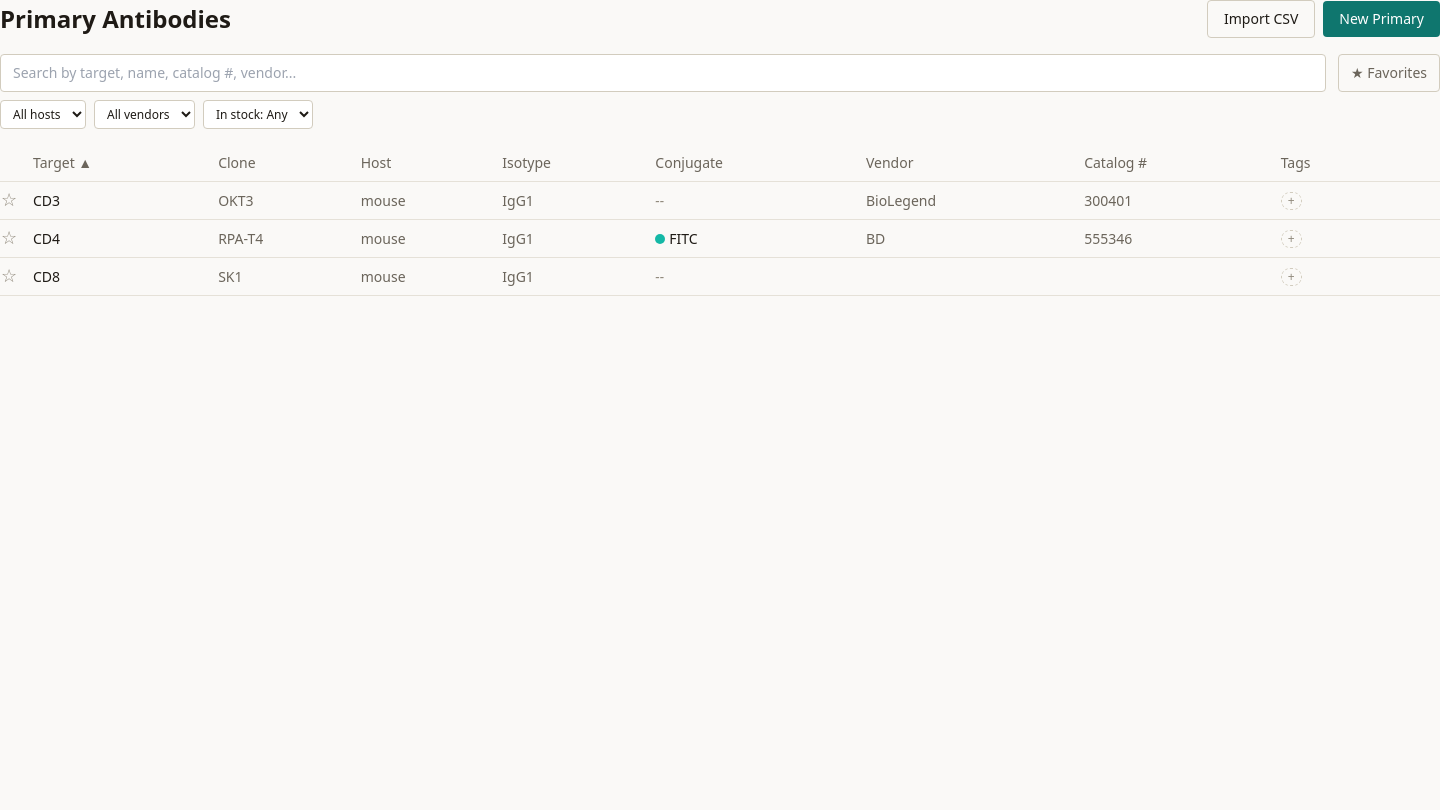
AntibodyTable › "New Primary" button opens modal
Click the button "New Primary".
click(1382, 19)  # box [1323, 1, 1439, 37]
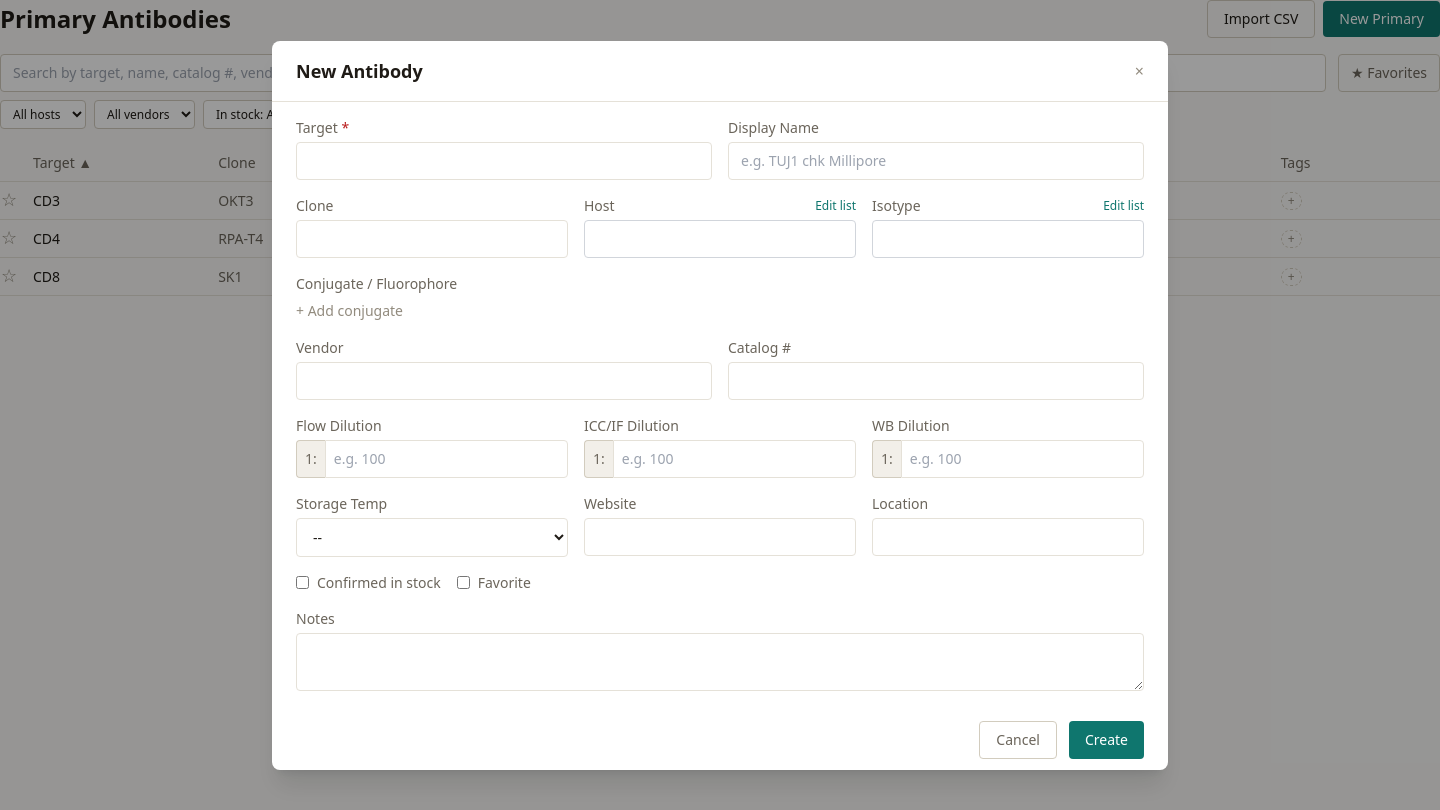
Expected: the heading "New Antibody" is shown, [296, 56, 423, 84]
